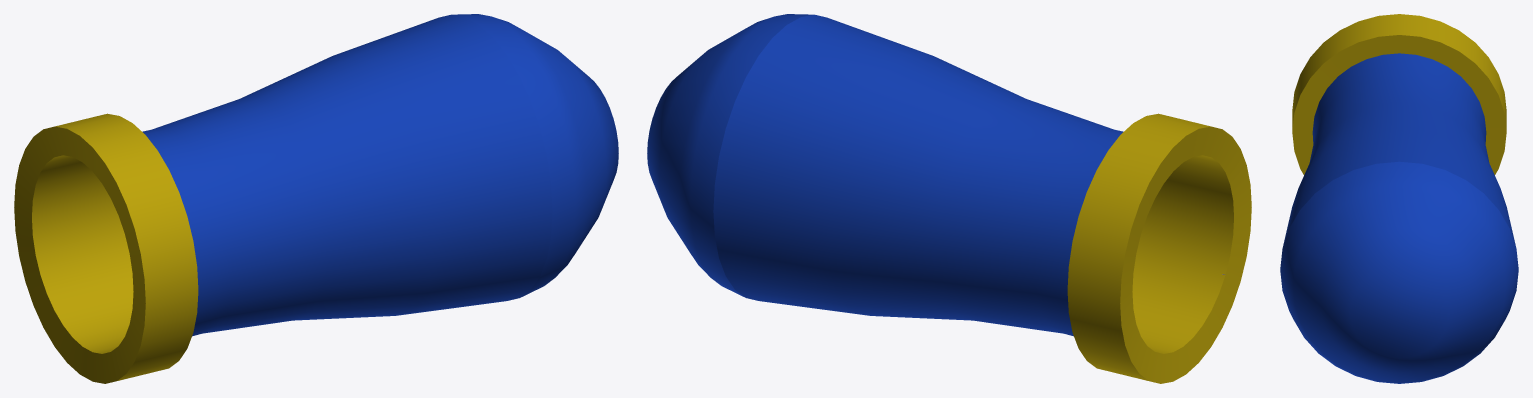
Rendered from cannon.obj.
The picture shows the model from 3 angles, left to right: view 1: azimuth 30°, elevation 25°; view 2: azimuth 150°, elevation 25°; view 3: azimuth 270°, elevation 25°; orthographic projection. The views are drawn at different scales.
Visible parts, largest first — view 1: cannon; view 2: cannon; view 3: cannon.
Boxes of the visible parts, x1,y1,x2,y2 form: cannon: (14, 14, 618, 383); cannon: (647, 14, 1251, 383); cannon: (1280, 14, 1518, 383).
Size of the model in its own units: 7.52 by 3.76 by 3.76.
1 material, 1 textured.
